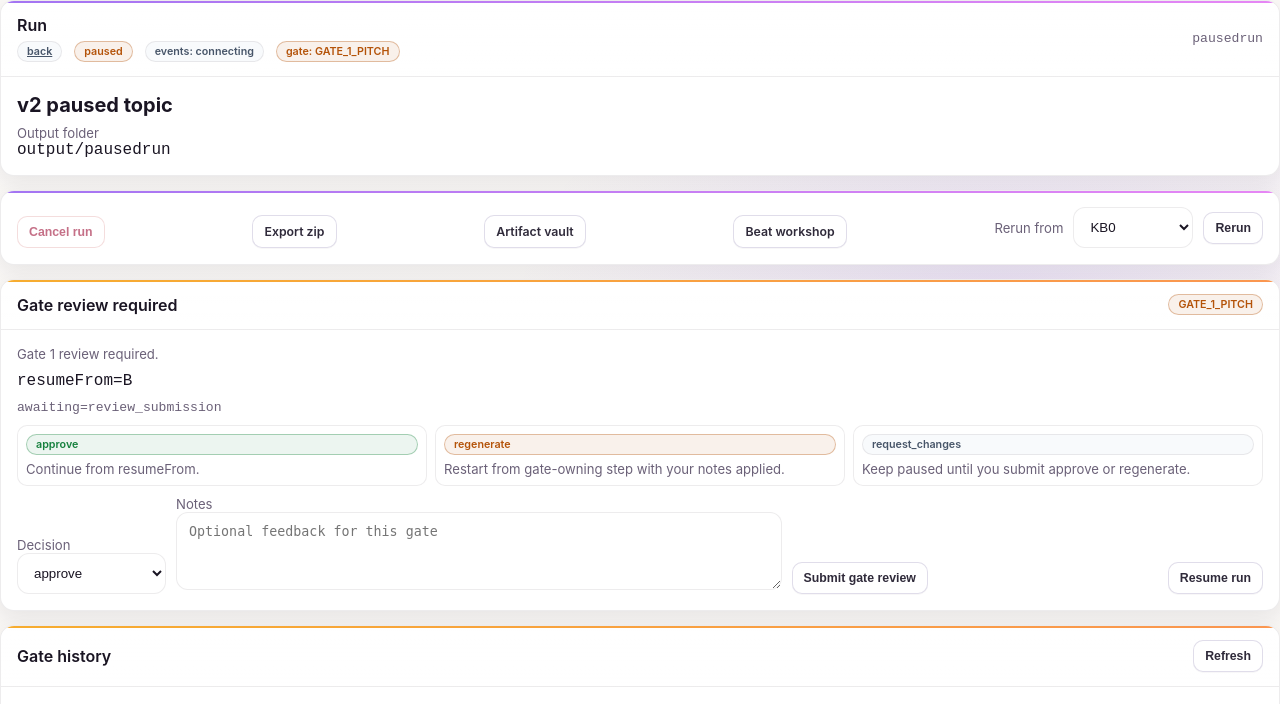
it: RunViewer › shows paused-run recovery guidance for request_changes and regenerate decisions
expect the text "Gate review required" is shown: met, box [17,294,178,314]
Select "request_changes" in the dropdown named "decision": (92, 574) [17,553,166,594]
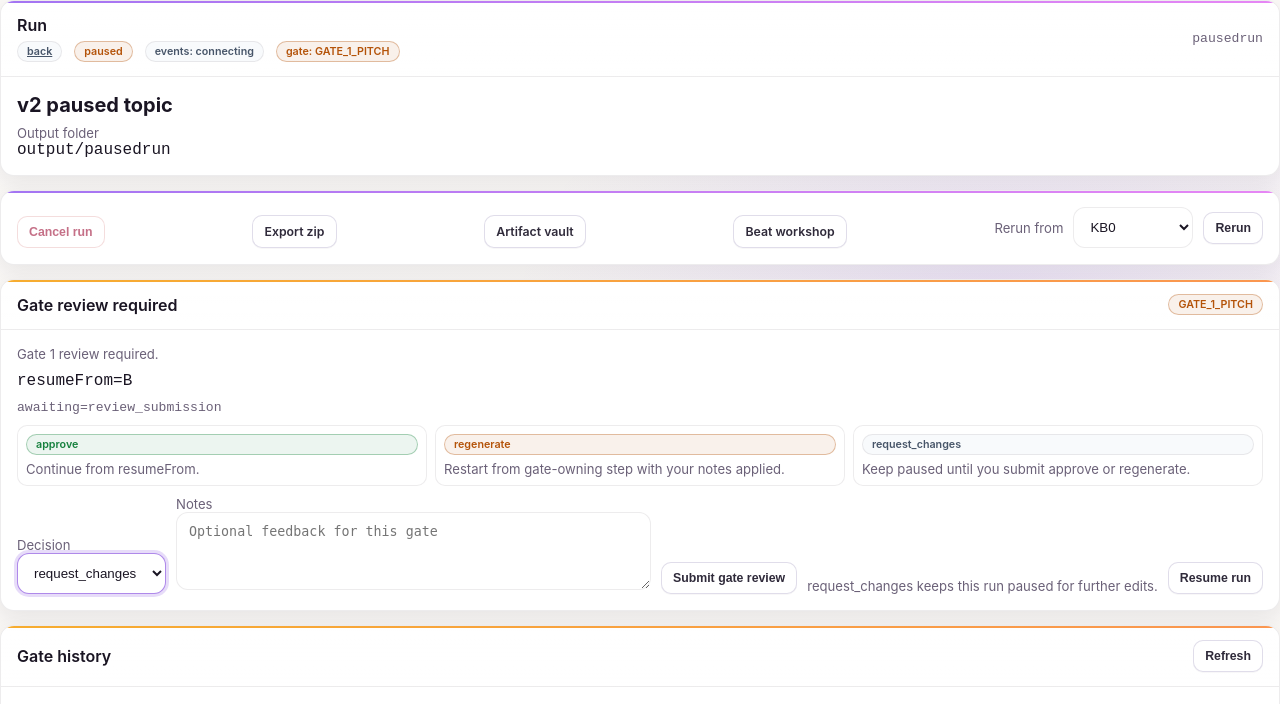
Click the button "Submit gate review": (729, 578) [661,562,797,594]
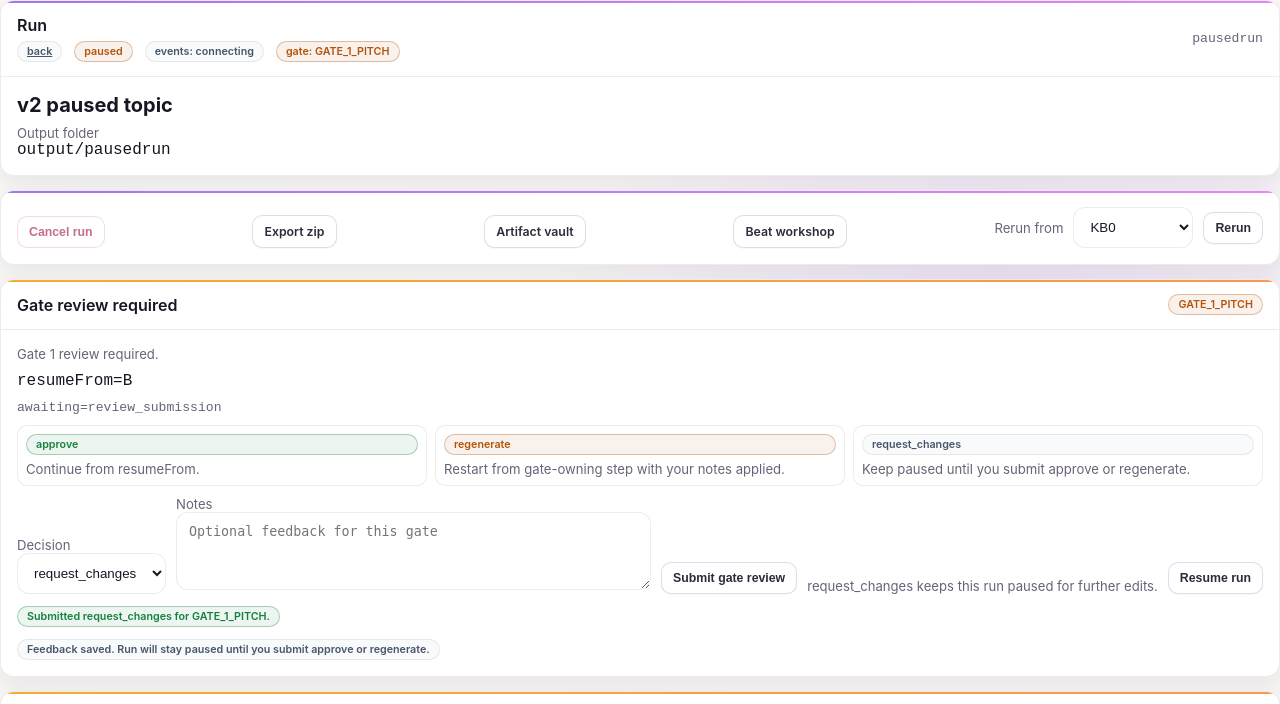
expect the text "will stay paused" is shown: met, box [27,643,430,656]
Select "regenerate" in the dropdown named "decision": (92, 574) [17,553,166,594]
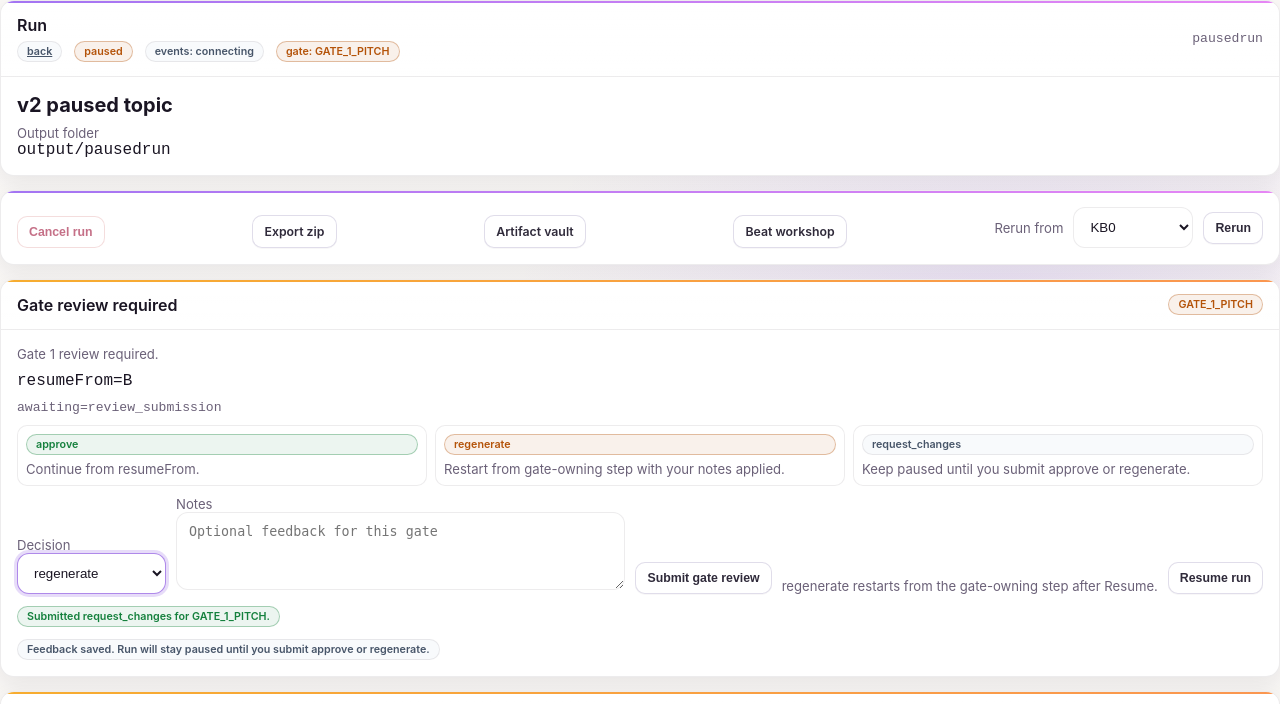
Click the button "Submit gate review": (704, 578) [635,562,772,594]
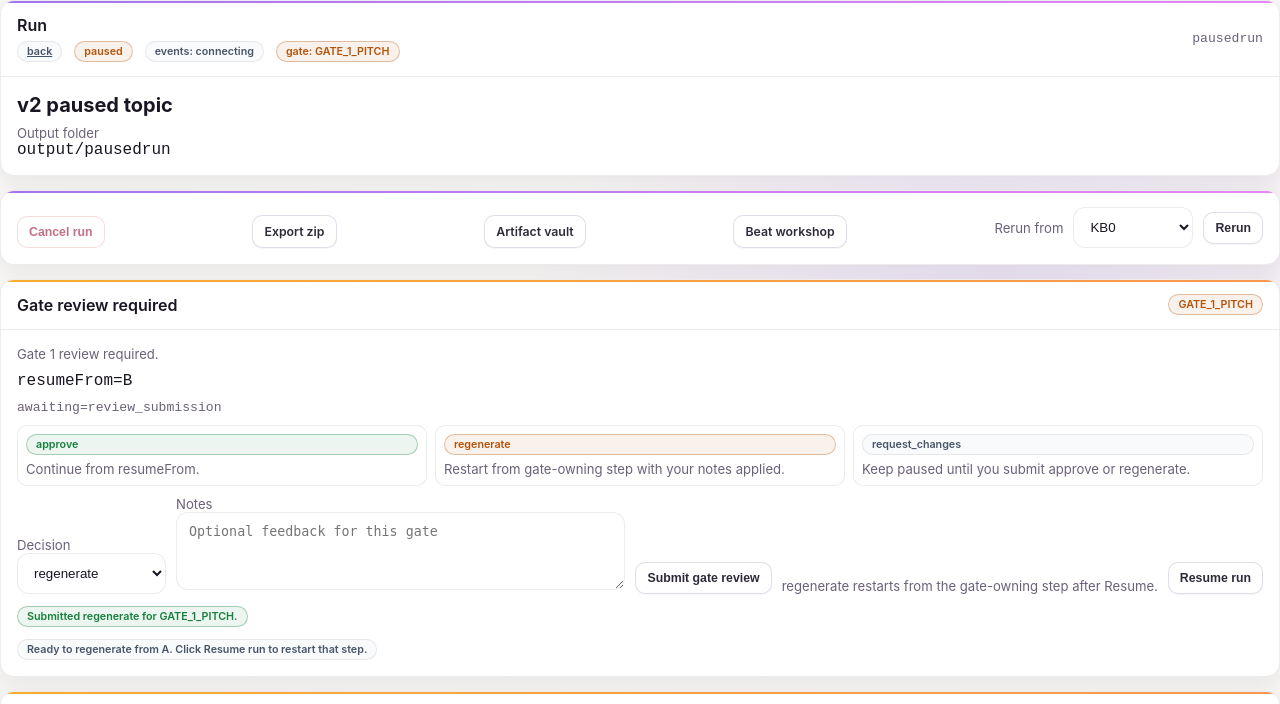
expect the text "Ready to regenerate from A" is shown: met, box [27,643,367,656]
